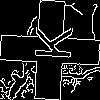K: (25, 25, 73, 61)
